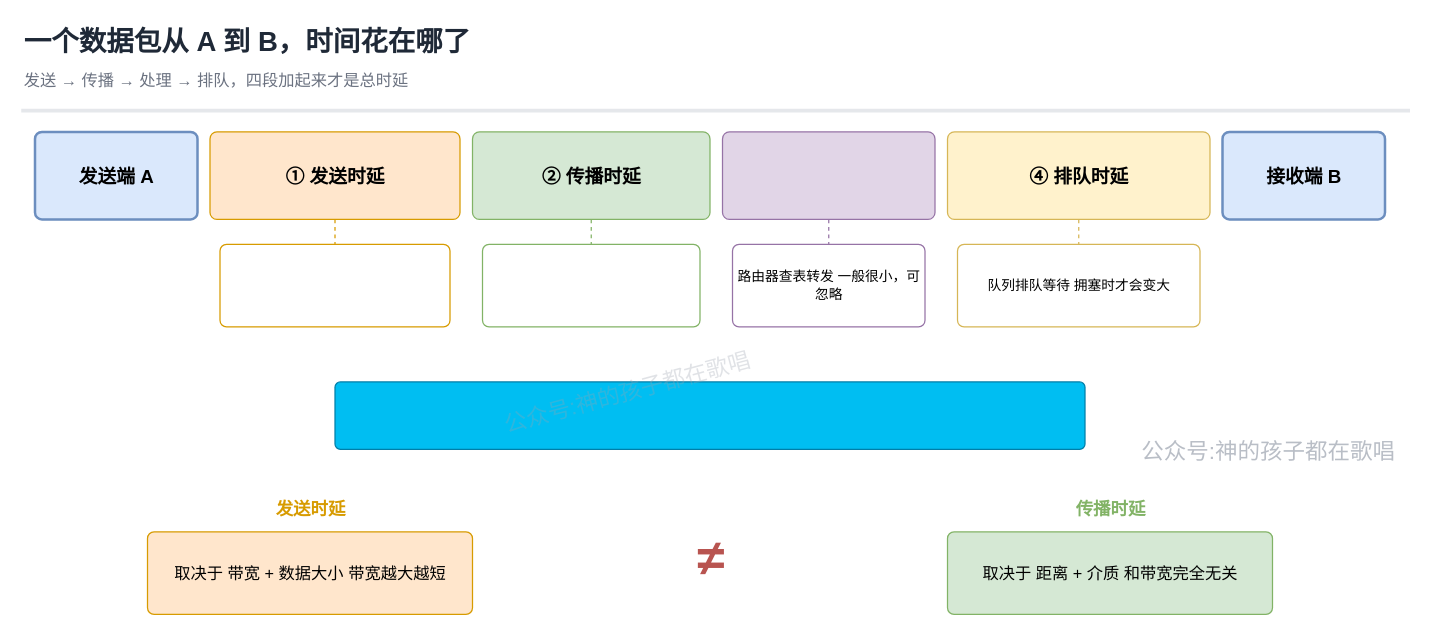
The diagram is 1431 pixels wide and 636 high, and some of its shapes have lost their labels. The shapes that lost their labels are listed below. From the top down, each one's box as (x1, y1, x2, y2) in pixels, then its label:
(721, 131, 935, 219): ③ 处理时延
(219, 243, 450, 327): 把比特推上链路 数据长度 ÷ 带宽
(481, 243, 700, 327): 信号在介质里跑 距离 ÷ 传播速度
(334, 381, 1085, 449): 总时延 = 发送 + 传播 + 处理 + 排队
